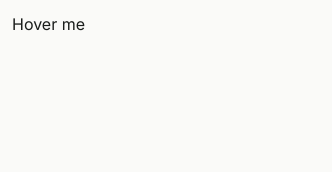
Test: feedback › Tooltip appears on focus after delay and registers aria-describedby
The image size is (332, 172).
Step 1. Focus the button "Hover me" → (48, 24), box [12,12,85,36]
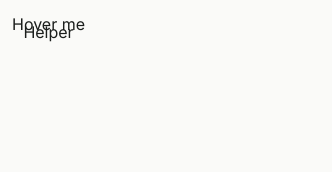
Expected: the tooltip "Helper" is shown, [23,20,74,44]
